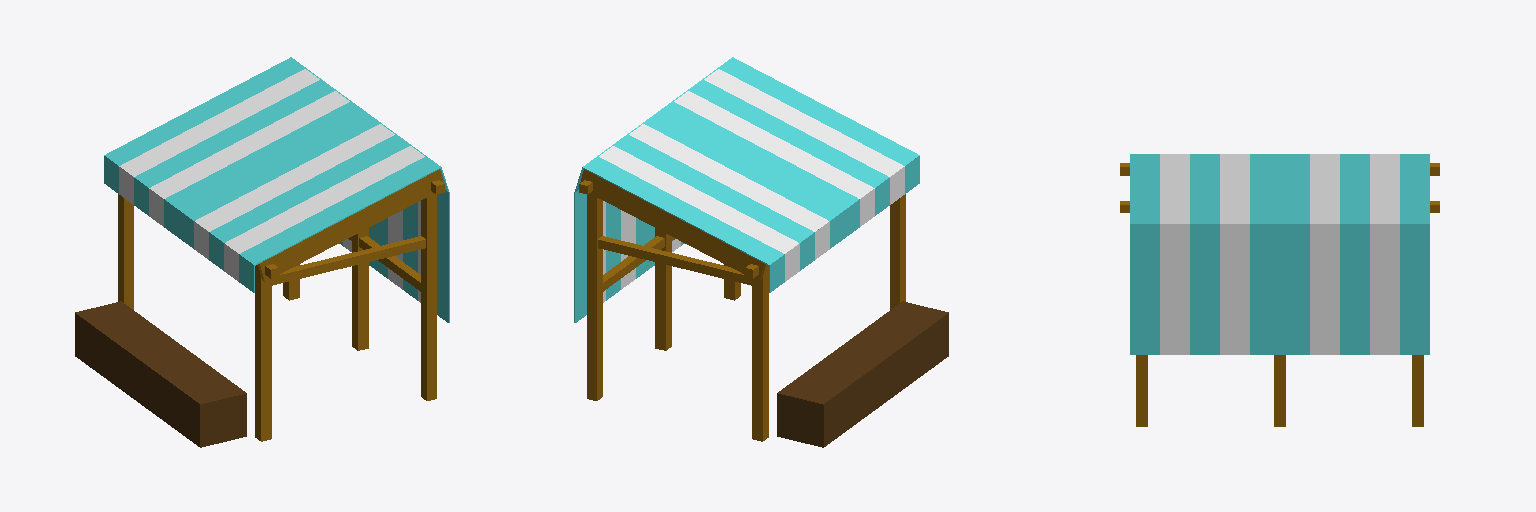
The picture shows the model from 3 angles: view 1: azimuth 30°, elevation 25°; view 2: azimuth 150°, elevation 25°; view 3: azimuth 270°, elevation 25°; orthographic projection.
Visible parts, largest first — view 1: top, cube, back, front, side; view 2: top, cube, back, front, side; view 3: back, top.
Part boxes in pixels (x1,y1,x2,y2): top: (104,58,443,281); cube: (75,301,246,447); back: (283,57,449,400); front: (104,156,278,441); side: (272,236,425,285); top: (580,58,919,281); cube: (777,301,948,447); back: (574,57,740,400); front: (745,156,919,441); side: (598,236,751,285); back: (1120,193,1439,426); top: (1130,154,1429,192).
Bounding box in the file's own units: 2.86 × 2.7 × 3.35.
3 materials, 3 textured.